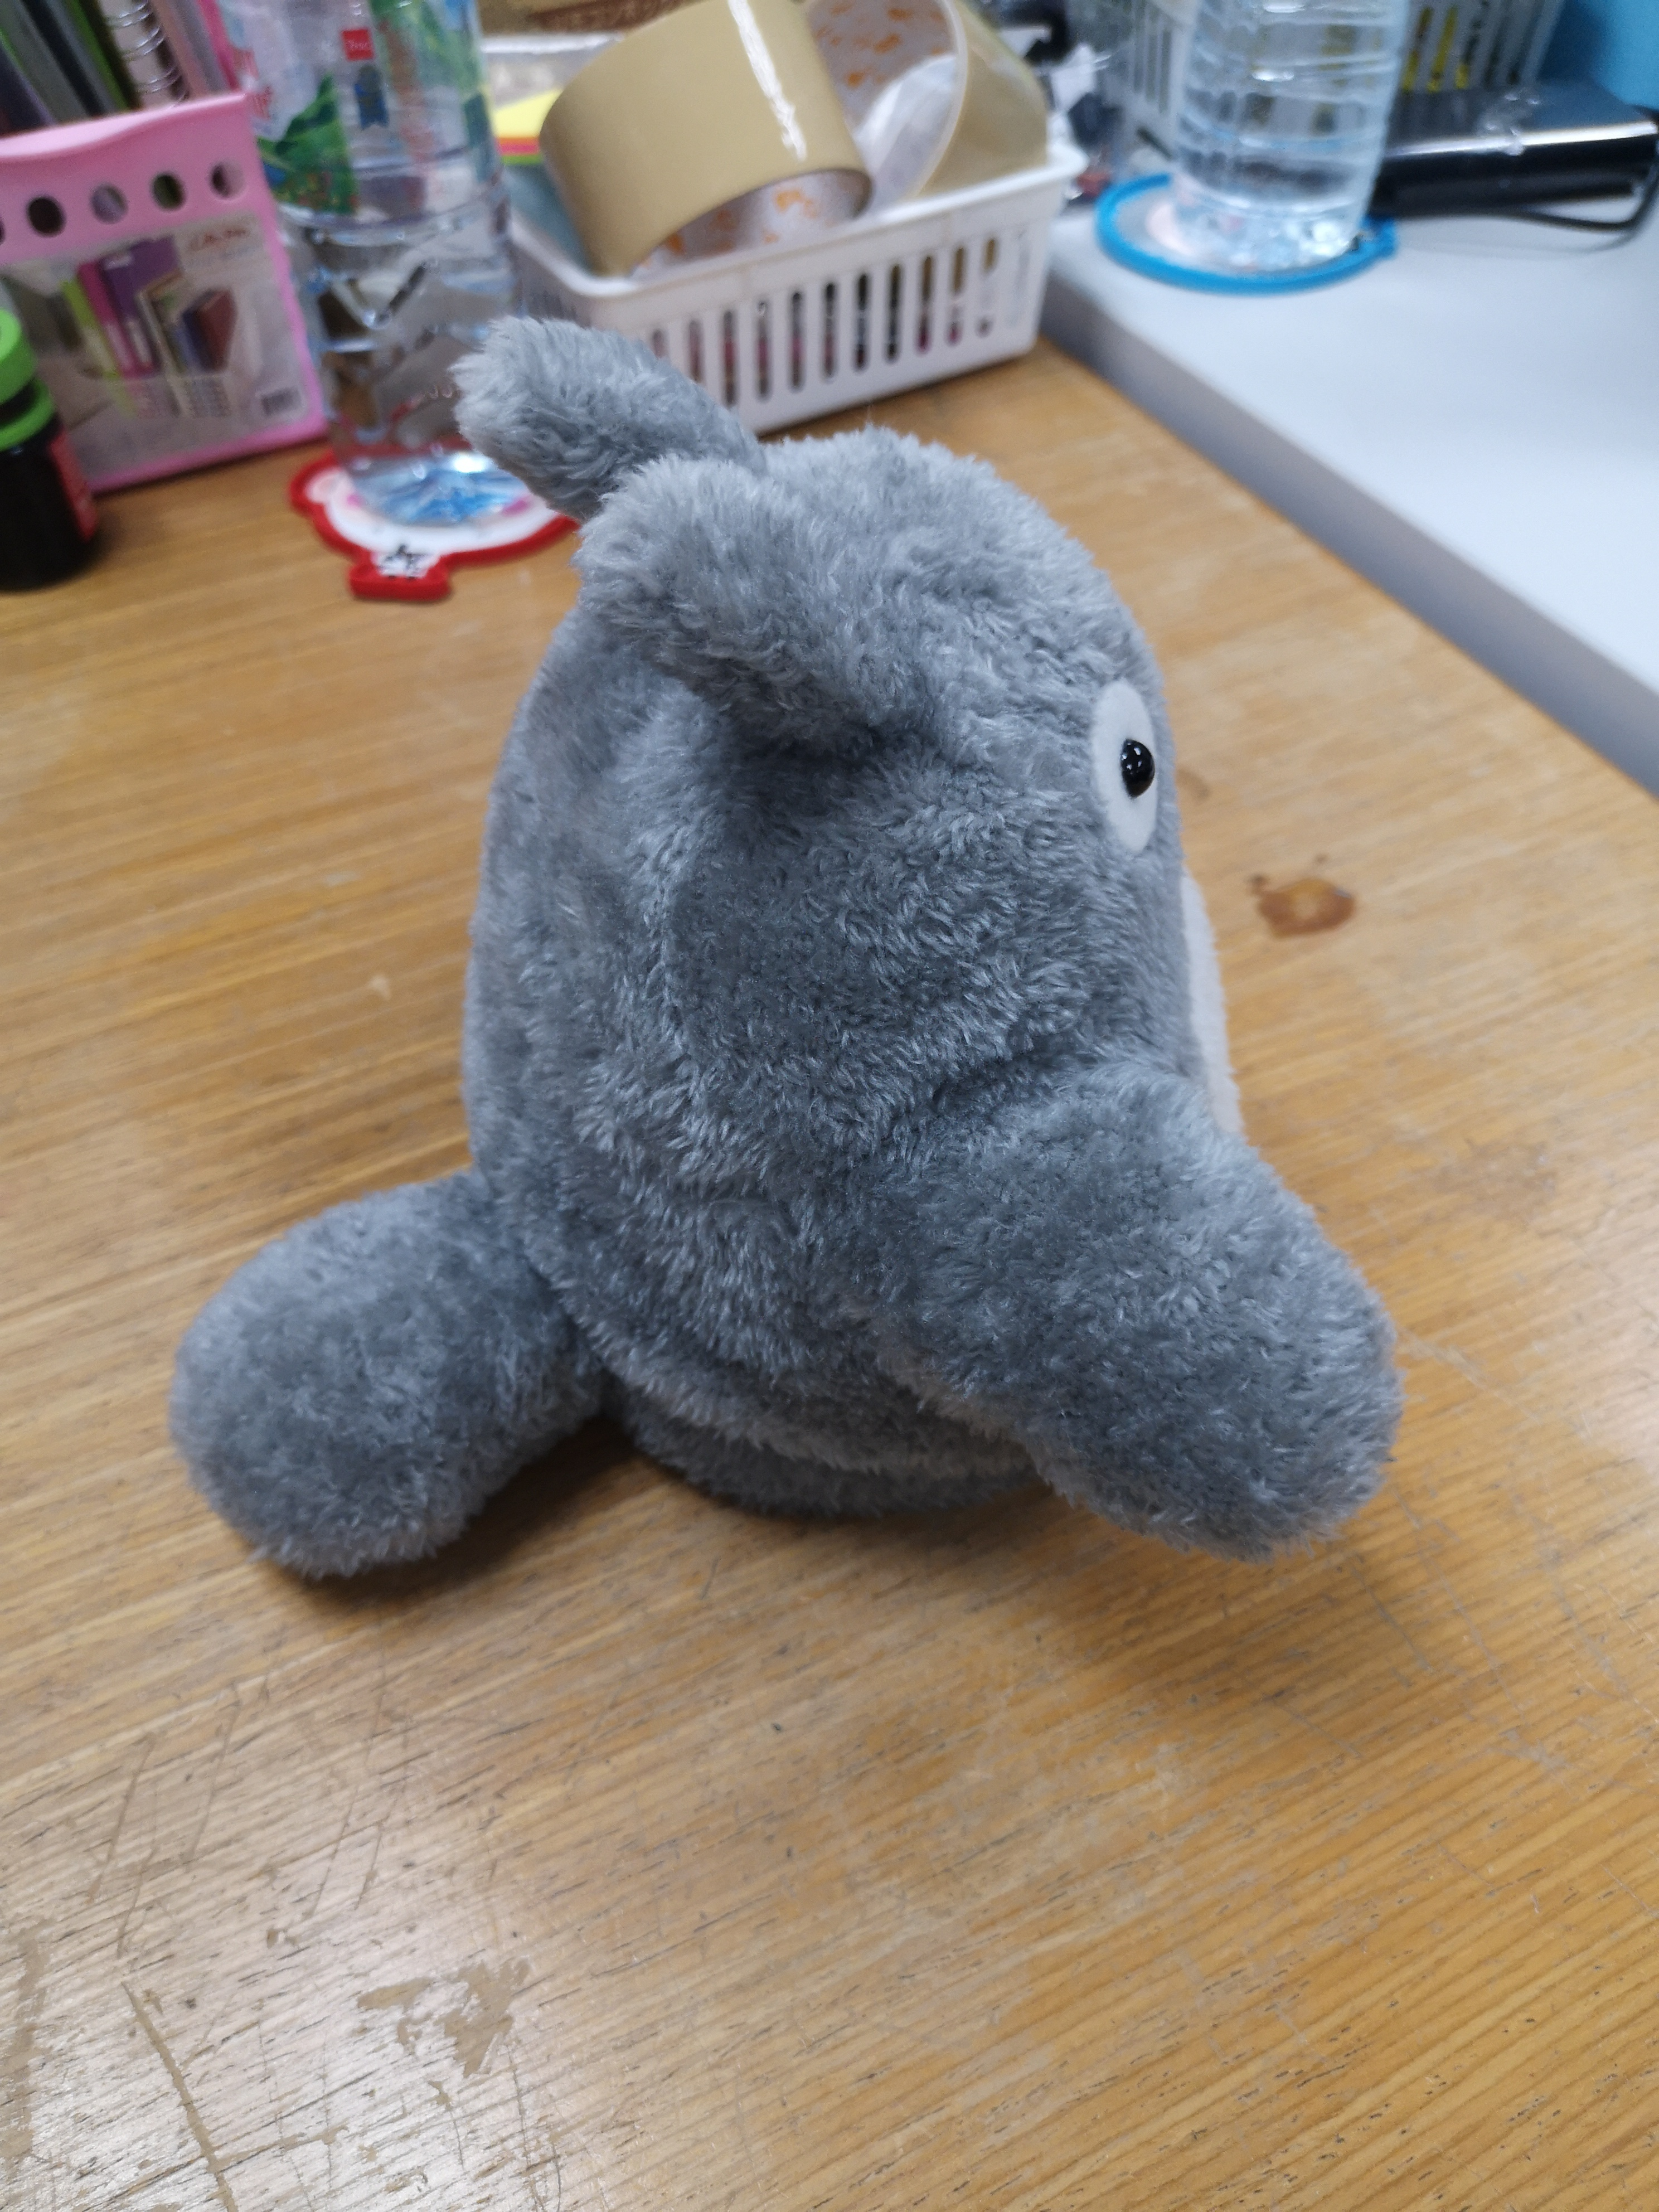totoro: (145, 305, 1412, 1656)
